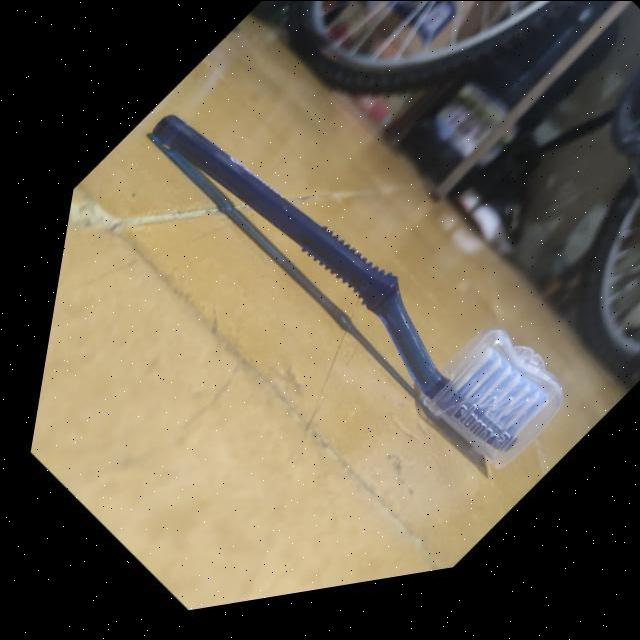toothbrush: (41, 0, 640, 576)
